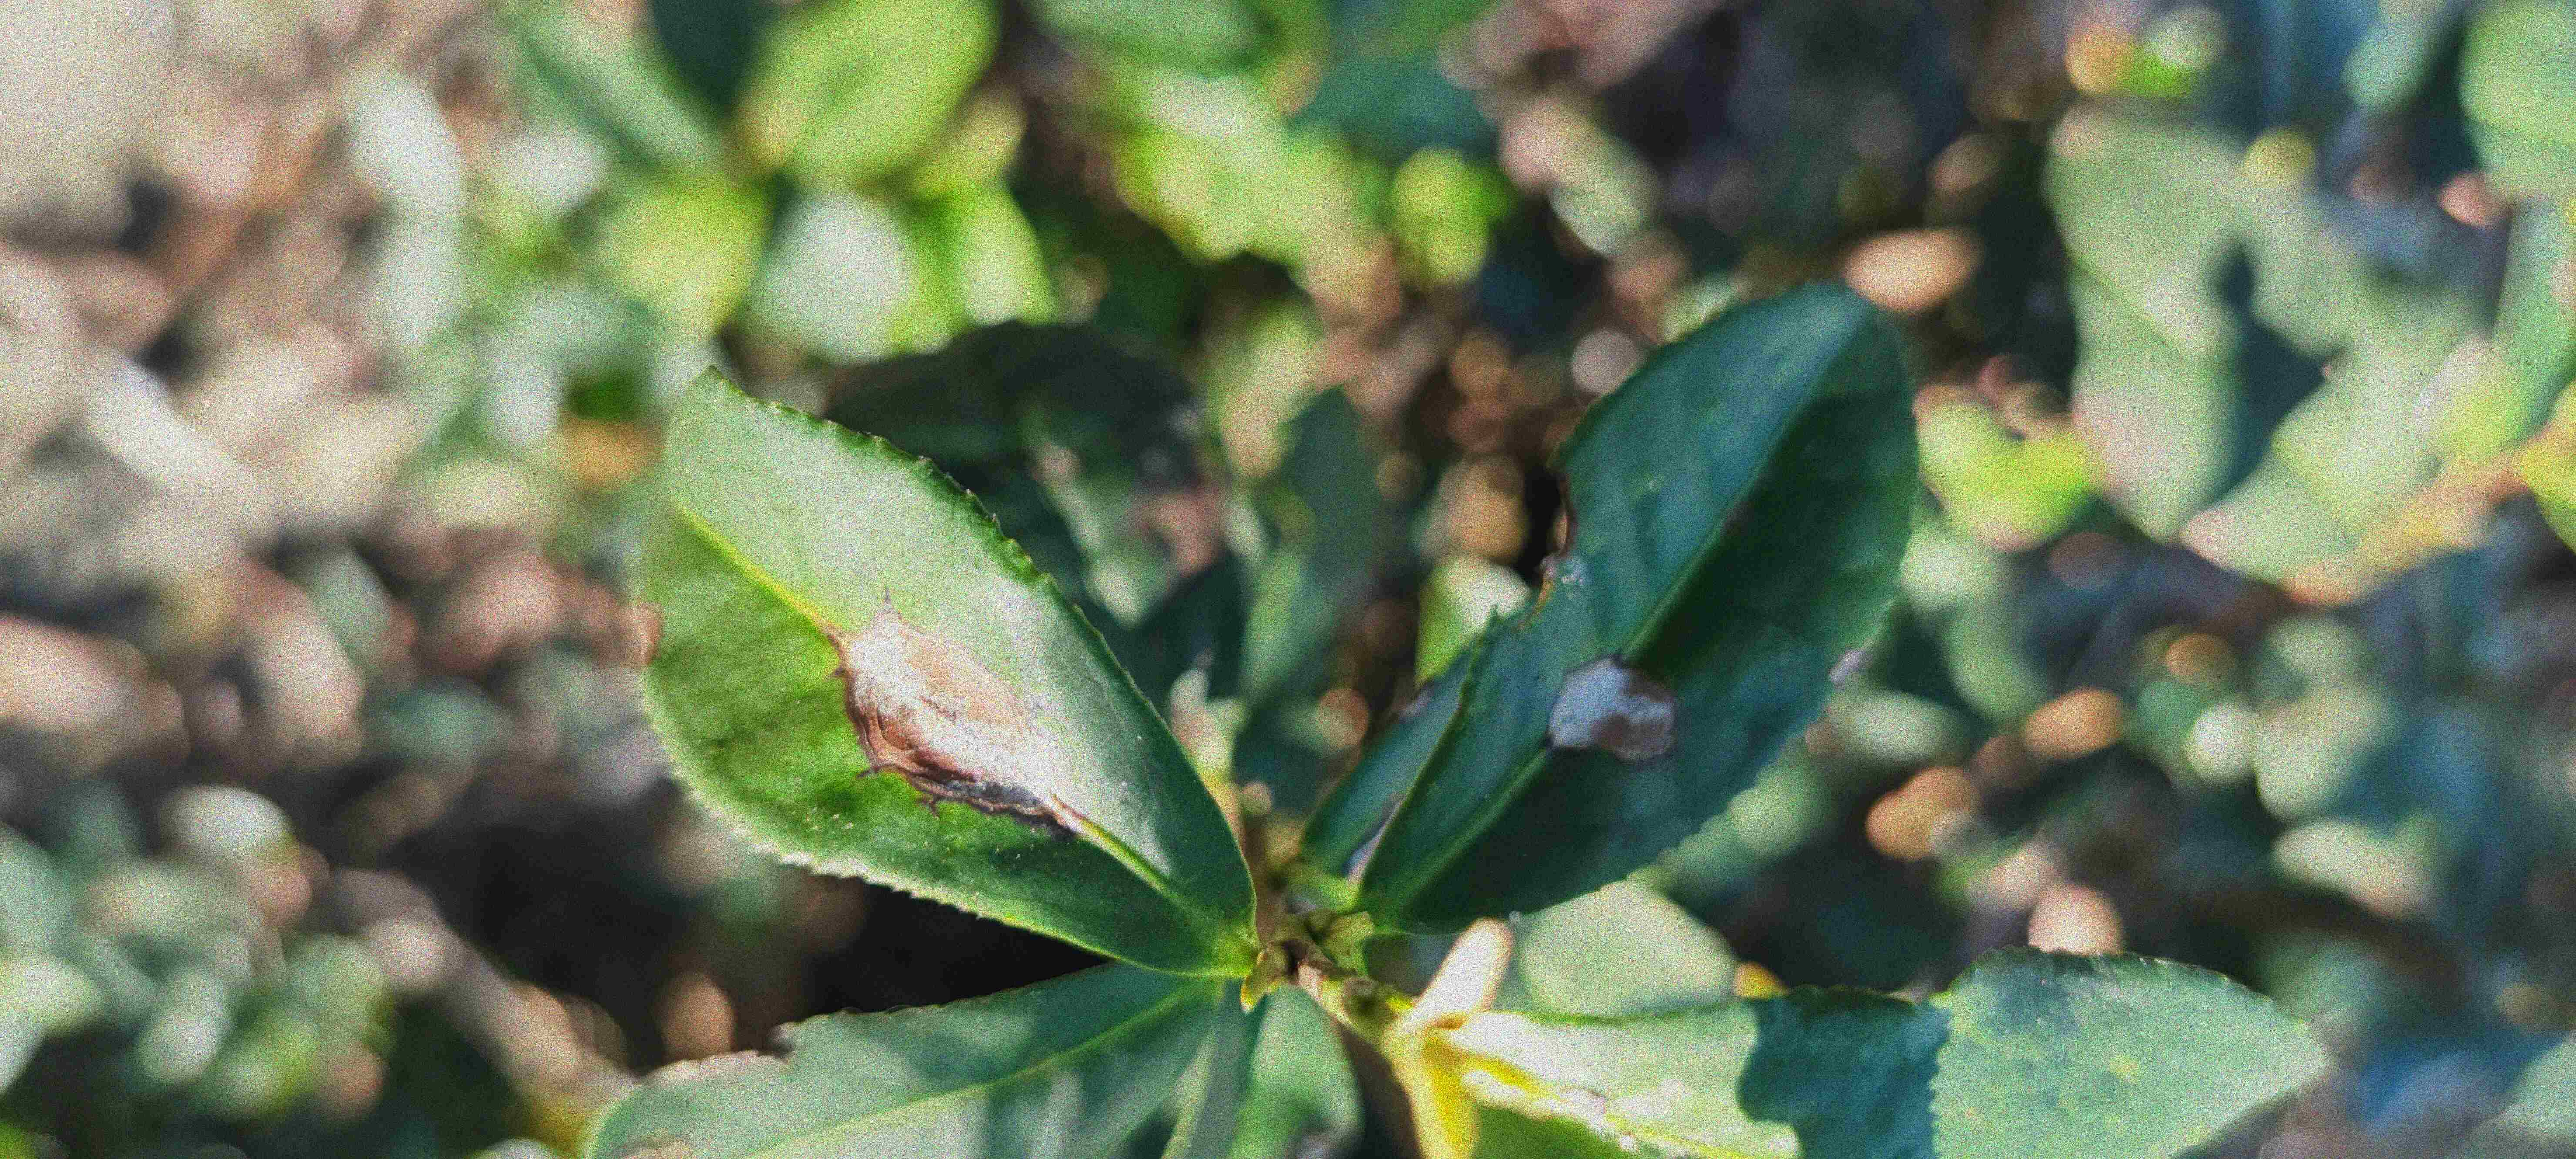tanju_high: (1304, 273, 1920, 941), (629, 360, 1263, 980)
